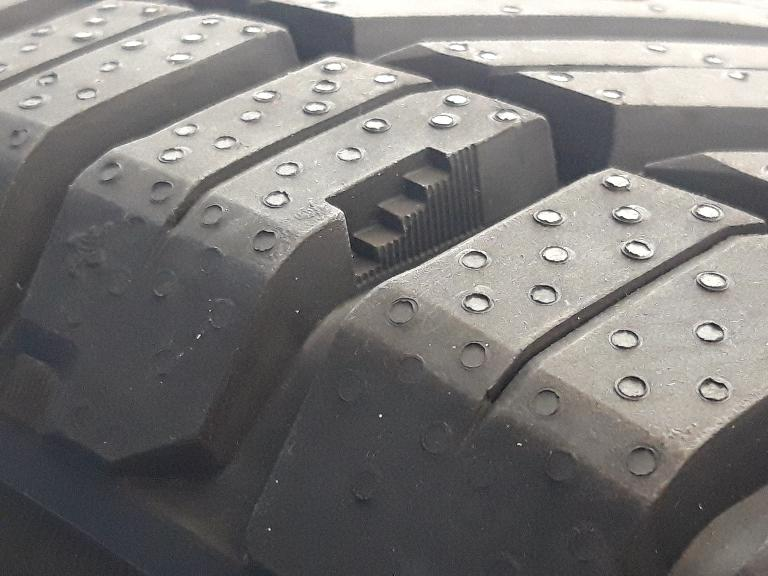temoin:100: (321, 139, 491, 292)
